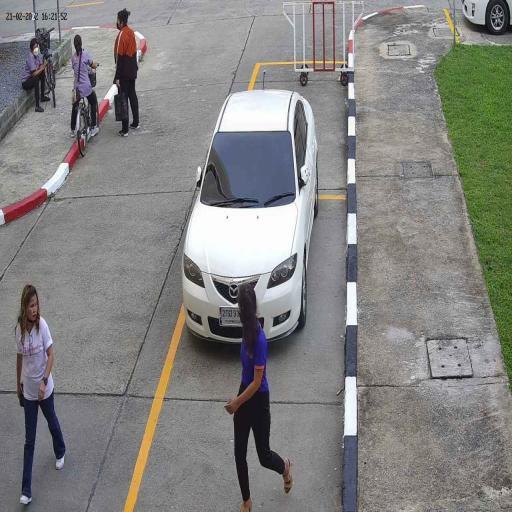car: (181, 88, 319, 346)
